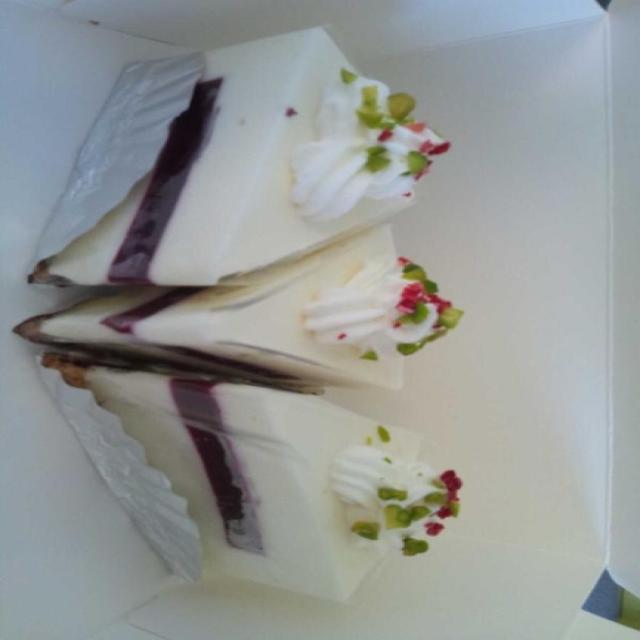面条主食: (48, 5, 585, 612)
